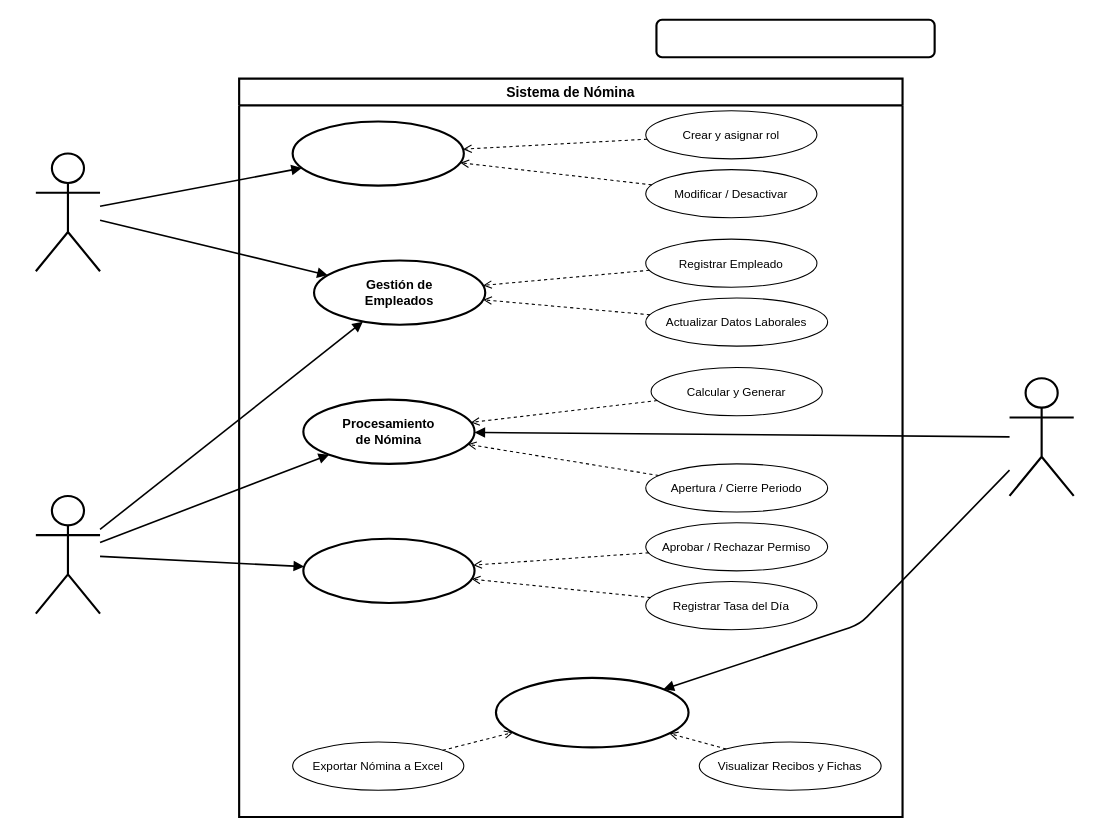
Image size: 1117x836. Some labels were removed from this diagram. Each missing label, with the centre of its shape:
<<interacción>> Administrador: pixel 67 212
<<interacción>> Operador: pixel 67 554
<<interacción>> Personal de Apoyo: pixel 1041 436
Control de Permisos y Tasas BCV: pixel 388 570
Diagrama de Casos de Uso: pixel 795 38
Gestión de Usuarios: pixel 377 153
Reportes y Consultas: pixel 591 712
